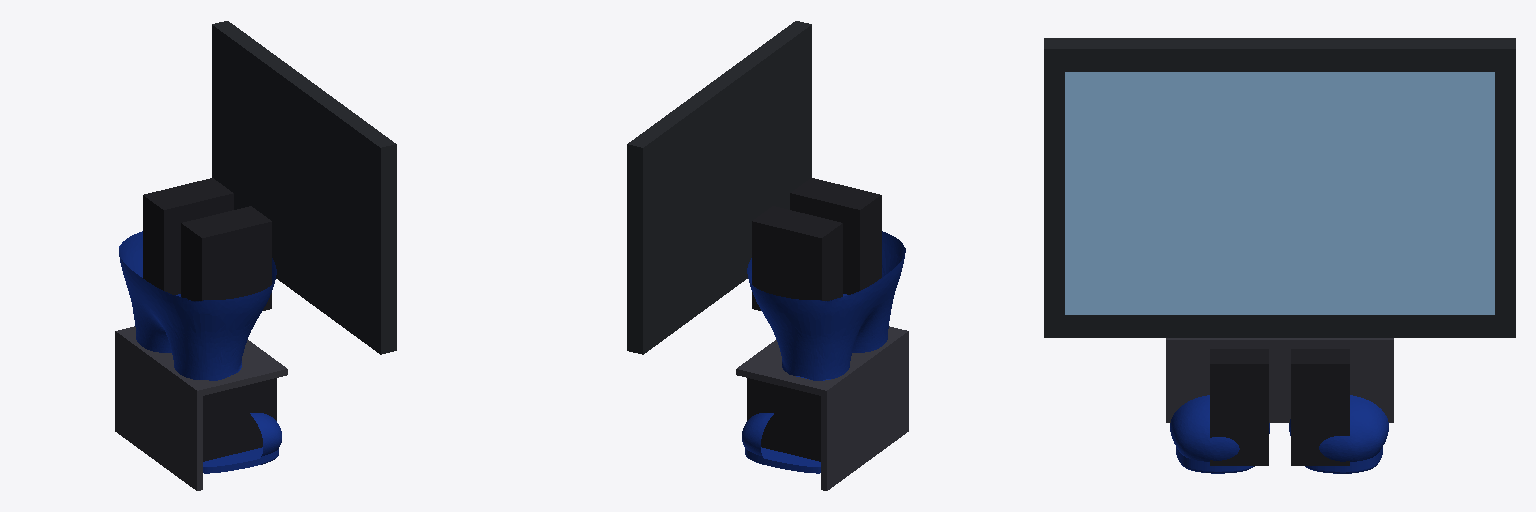
robot.urdf — haetburi:
<?xml version="1.0"?>
<!-- Haetburi biped (v14_sts3032) - generated by tools/build_model.py, do not edit by hand -->
<robot name="haetburi">
  <mujoco>
    <compiler meshdir="." balanceinertia="true" discardvisual="false" strippath="false" fusestatic="false"/>
  </mujoco>
  <material name="display"><color rgba="0.18 0.19 0.21 1"/></material>
  <material name="screen"><color rgba="0.62 0.80 0.95 1"/></material>
  <material name="shell"><color rgba="0.106 0.216 0.541 1"/></material>
  <material name="motor"><color rgba="0.15 0.15 0.17 1"/></material>
  <material name="foot"><color rgba="0.25 0.25 0.28 1"/></material>
  <link name="world"/>
  <joint name="floating_base" type="floating">
    <parent link="world"/><child link="pelvis"/>
    <origin xyz="0 0 0" rpy="0 0 0"/>
  </joint>
  <link name="pelvis">
    <inertial>
      <origin xyz="0.00713544 -2.18066e-05 0.0153678" rpy="0 0 0"/>
      <mass value="0.173065"/>
      <inertia ixx="2.26581e-05" ixy="-9.32115e-09" ixz="-1.24925e-06" iyy="1.98102e-05" iyz="3.28532e-08" izz="1.37383e-05"/>
    </inertial>
    <visual><origin xyz="0 0 0" rpy="0 0 0"/><geometry><mesh filename="meshes/pelvis.stl"/></geometry><material name="shell"/></visual>
    <visual><origin xyz="0.00550117 0.0108634 0.02575" rpy="0 0 0"/><geometry><box size="0.023 0.012 0.0275"/></geometry><material name="motor"/></visual>
    <visual><origin xyz="0.00549883 -0.0109975 0.02575" rpy="0 0 0"/><geometry><box size="0.023 0.012 0.0275"/></geometry><material name="motor"/></visual>
    <collision><origin xyz="0.00331342 -6.4914e-05 0.01159" rpy="0 0 0"/><geometry><box size="0.0397263 0.0527542 0.02318"/></geometry></collision>
  </link>
  <link name="torso">
    <inertial>
      <origin xyz="0.010055 4.52706e-05 0.0561403" rpy="0 0 0"/>
      <mass value="0.191248"/>
      <inertia ixx="0.000625801" ixy="-1.76452e-06" ixz="0.000116978" iyy="0.000629387" iyz="-1.71559e-06" izz="0.000336645"/>
    </inertial>
    <visual><origin xyz="0 0 0" rpy="0 0 0"/><geometry><mesh filename="meshes/torso.stl"/></geometry><material name="shell"/></visual>
    <visual><origin xyz="0.0372792 0 0.0153091" rpy="0 0 0"/><geometry><box size="0.005244 0.095988 0.0648888"/></geometry><material name="display"/></visual>
    <visual><origin xyz="0.0399012 0 0.0153091" rpy="0 0 0"/><geometry><box size="0.0004 0.087552 0.05472"/></geometry><material name="screen"/></visual>
    <collision><origin xyz="-0.0173085 -8.05743e-07 0.0127695" rpy="0 0 0"/><geometry><box size="0.0812442 0.0550894 0.0542513"/></geometry></collision>
    <collision><origin xyz="0.0211356 0.0426717 0.0257316" rpy="0 0 0"/><geometry><sphere radius="0.0308669"/></geometry></collision>
    <collision><origin xyz="0.0212817 -0.0427371 0.0257316" rpy="0 0 0"/><geometry><sphere radius="0.0308372"/></geometry></collision>
    <collision><origin xyz="-0.00265287 0.00013567 0.0520928" rpy="0 0 0"/><geometry><sphere radius="0.0529428"/></geometry></collision>
    <collision><origin xyz="-0.00462272 -6.23744e-05 0.0764717" rpy="0 0 0"/><geometry><sphere radius="0.0610803"/></geometry></collision>
    <collision><origin xyz="-0.0070391 -0.000102947 0.100855" rpy="0 0 0"/><geometry><sphere radius="0.0603728"/></geometry></collision>
    <collision><origin xyz="-0.00552216 0.000434881 0.125237" rpy="0 0 0"/><geometry><sphere radius="0.0524964"/></geometry></collision>
    <collision><origin xyz="-0.00326762 0.0034422 0.149633" rpy="0 0 0"/><geometry><sphere radius="0.0374178"/></geometry></collision>
    <collision><origin xyz="-0.00598837 -0.00113773 0.174009" rpy="0 0 0"/><geometry><sphere radius="0.0217147"/></geometry></collision>
    <collision><origin xyz="0.0372792 0 0.0153091" rpy="0 0 0"/><geometry><box size="0.005244 0.095988 0.0648888"/></geometry></collision>
  </link>
  <link name="leg_l">
    <inertial>
      <origin xyz="-5.98329e-05 1.3674e-05 -0.0148254" rpy="0 0 0"/>
      <mass value="0.022799"/>
      <inertia ixx="3.92413e-06" ixy="-3.39802e-10" ixz="1.43286e-08" iyy="1.74814e-06" iyz="-2.86794e-09" izz="3.70622e-06"/>
    </inertial>
    <visual><origin xyz="0 0 0" rpy="0 0 0"/><geometry><mesh filename="meshes/leg_l.stl"/></geometry><material name="shell"/></visual>
    <visual><origin xyz="-0.010269 -0.00265616 -0.0203325" rpy="0 0 0"/><geometry><box size="0.002 0.03 0.031545"/></geometry><material name="foot"/></visual>
    <visual><origin xyz="0.00360602 -0.00265616 -0.00556" rpy="0 0 0"/><geometry><box size="0.02975 0.03 0.002"/></geometry><material name="foot"/></visual>
    <collision><origin xyz="-2.5133e-07 -3.46481e-06 -0.00228" rpy="0 0 0"/><geometry><box size="0.0207227 0.0189855 0.00456"/></geometry></collision>
  </link>
  <link name="foot_l">
    <inertial>
      <origin xyz="0.000333775 0.000278693 0.00478516" rpy="0 0 0"/>
      <mass value="0.0270284"/>
      <inertia ixx="1.69966e-06" ixy="-3.60103e-08" ixz="4.97537e-08" iyy="3.04775e-06" iyz="6.48464e-08" izz="2.12612e-06"/>
    </inertial>
    <visual><origin xyz="0 0 0" rpy="0 0 0"/><geometry><mesh filename="meshes/foot_l.stl"/></geometry><material name="shell"/></visual>
    <visual><origin xyz="-0 0 0.0055" rpy="0 0 0"/><geometry><box size="0.0275 0.012 0.023"/></geometry><material name="motor"/></visual>
    <collision><origin xyz="0 0 0" rpy="0 0 0"/><geometry><mesh filename="meshes/foot_l.stl"/></geometry></collision>
    <collision><origin xyz="-0 0 0.0055" rpy="0 0 0"/><geometry><box size="0.0275 0.012 0.023"/></geometry></collision>
  </link>
  <link name="leg_r">
    <inertial>
      <origin xyz="-1.76842e-05 7.07934e-06 -0.0147403" rpy="0 0 0"/>
      <mass value="0.0229886"/>
      <inertia ixx="3.94963e-06" ixy="-3.82444e-09" ixz="4.45603e-09" iyy="1.76893e-06" iyz="-2.02967e-09" izz="3.71254e-06"/>
    </inertial>
    <visual><origin xyz="0 0 0" rpy="0 0 0"/><geometry><mesh filename="meshes/leg_r.stl"/></geometry><material name="shell"/></visual>
    <visual><origin xyz="-0.0102666 0.00268579 -0.0203325" rpy="0 0 0"/><geometry><box size="0.002 0.03 0.031545"/></geometry><material name="foot"/></visual>
    <visual><origin xyz="0.00360836 0.00268579 -0.00556" rpy="0 0 0"/><geometry><box size="0.02975 0.03 0.002"/></geometry><material name="foot"/></visual>
    <collision><origin xyz="6.00205e-07 5.49281e-06 -0.00228" rpy="0 0 0"/><geometry><box size="0.0207059 0.019022 0.00456"/></geometry></collision>
  </link>
  <link name="foot_r">
    <inertial>
      <origin xyz="0.00032997 -0.000281176 0.00478593" rpy="0 0 0"/>
      <mass value="0.0270221"/>
      <inertia ixx="1.70008e-06" ixy="3.60599e-08" ixz="4.92608e-08" iyy="3.04583e-06" iyz="-6.56412e-08" izz="2.12487e-06"/>
    </inertial>
    <visual><origin xyz="0 0 0" rpy="0 0 0"/><geometry><mesh filename="meshes/foot_r.stl"/></geometry><material name="shell"/></visual>
    <visual><origin xyz="-0 0 0.0055" rpy="0 0 0"/><geometry><box size="0.0275 0.012 0.023"/></geometry><material name="motor"/></visual>
    <collision><origin xyz="0 0 0" rpy="0 0 0"/><geometry><mesh filename="meshes/foot_r.stl"/></geometry></collision>
    <collision><origin xyz="-0 0 0.0055" rpy="0 0 0"/><geometry><box size="0.0275 0.012 0.023"/></geometry></collision>
  </link>
  <joint name="waist_fixed" type="fixed">
    <parent link="pelvis"/><child link="torso"/>
    <origin xyz="0 0 0.02318" rpy="0 0 0"/>
  </joint>
  <joint name="hip_yaw_l" type="revolute">
    <parent link="pelvis"/><child link="leg_l"/>
    <origin xyz="1.17009e-06 0.0108634 0" rpy="0 0 0"/>
    <axis xyz="0 0 1"/>
    <limit lower="-0.523599" upper="0.523599" effort="0.44" velocity="11.6"/>
    <dynamics damping="0.03142857142857144" friction="0.012571428571428574"/>
  </joint>
  <joint name="hip_yaw_r" type="revolute">
    <parent link="pelvis"/><child link="leg_r"/>
    <origin xyz="-1.17009e-06 -0.0109975 0" rpy="0 0 0"/>
    <axis xyz="0 0 1"/>
    <limit lower="-0.523599" upper="0.523599" effort="0.44" velocity="11.6"/>
    <dynamics damping="0.03142857142857144" friction="0.012571428571428574"/>
  </joint>
  <joint name="ankle_roll_l" type="revolute">
    <parent link="leg_l"/><child link="foot_l"/>
    <origin xyz="0.00648102 -0.00265616 -0.026105" rpy="0 0 0"/>
    <axis xyz="1 0 0"/>
    <limit lower="-0.261799" upper="0.261799" effort="0.44" velocity="11.6"/>
    <dynamics damping="0.03142857142857144" friction="0.012571428571428574"/>
  </joint>
  <joint name="ankle_roll_r" type="revolute">
    <parent link="leg_r"/><child link="foot_r"/>
    <origin xyz="0.00648336 0.00268579 -0.026105" rpy="0 0 0"/>
    <axis xyz="1 0 0"/>
    <limit lower="-0.261799" upper="0.261799" effort="0.44" velocity="11.6"/>
    <dynamics damping="0.03142857142857144" friction="0.012571428571428574"/>
  </joint>
</robot>

--- What the picture shows (computed from the rendered views, not written in the file) ---
Views: 3 orthographic renders of the robot side by side, from view 1: azimuth 30°, elevation 25°; view 2: azimuth 150°, elevation 25°; view 3: azimuth 270°, elevation 25°.
Robot: haetburi — 7 links, 6 joints (4 revolute, 1 fixed, 1 floating); root link world; default pose: all joints at 0.
Links seen in each view (by area): view 1: torso, pelvis, leg_r, leg_l, foot_r; view 2: torso, pelvis, leg_l, foot_l, leg_r; view 3: torso, foot_r, foot_l, leg_r, leg_l.
Boxes of the visible links, x1,y1,x2,y2 form: torso: (212, 21, 396, 354); pelvis: (119, 178, 276, 366); leg_r: (148, 340, 287, 490); leg_l: (115, 326, 257, 469); foot_r: (203, 378, 281, 473); torso: (627, 21, 811, 354); pelvis: (747, 178, 905, 366); leg_l: (736, 340, 879, 490); foot_l: (742, 378, 820, 473); leg_r: (850, 326, 908, 451); torso: (1044, 38, 1515, 337); foot_r: (1170, 349, 1269, 473); foot_l: (1289, 349, 1388, 473); leg_r: (1166, 338, 1312, 422); leg_l: (1247, 338, 1393, 422).
Size in the robot's own frame: 0.0567 by 0.096 by 0.107 metres.
5 mesh visuals loaded from 6 distinct referenced files (5 binary STL); not drawn: 1 (reference not matched to a file when rendering).
